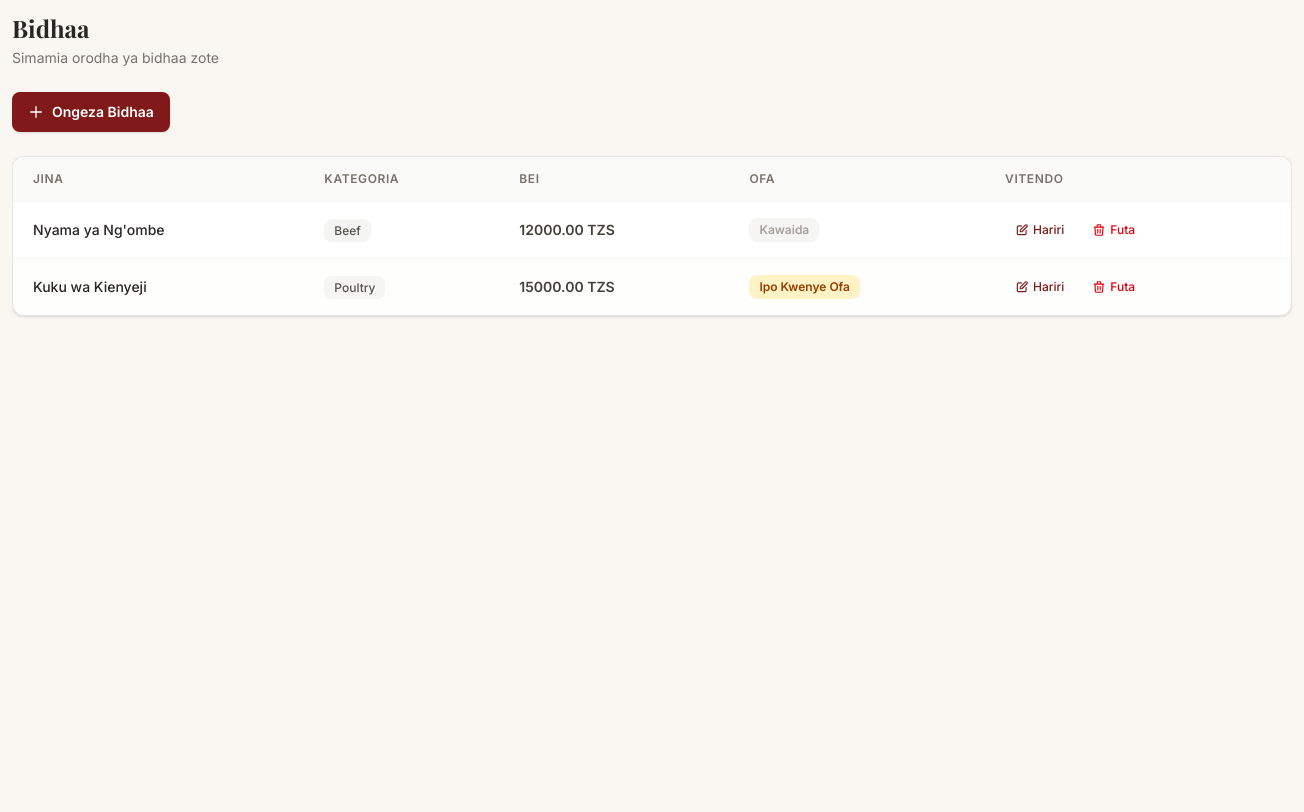
Test case: AdminProducts › shows edit form with pre-filled data
The width and height of the screenshot is (1304, 812).
Step 1. Click the button "Hariri" in the row of "Nyama ya Ng'ombe" → x=1040, y=230, box 1005,216 -> 1074,244
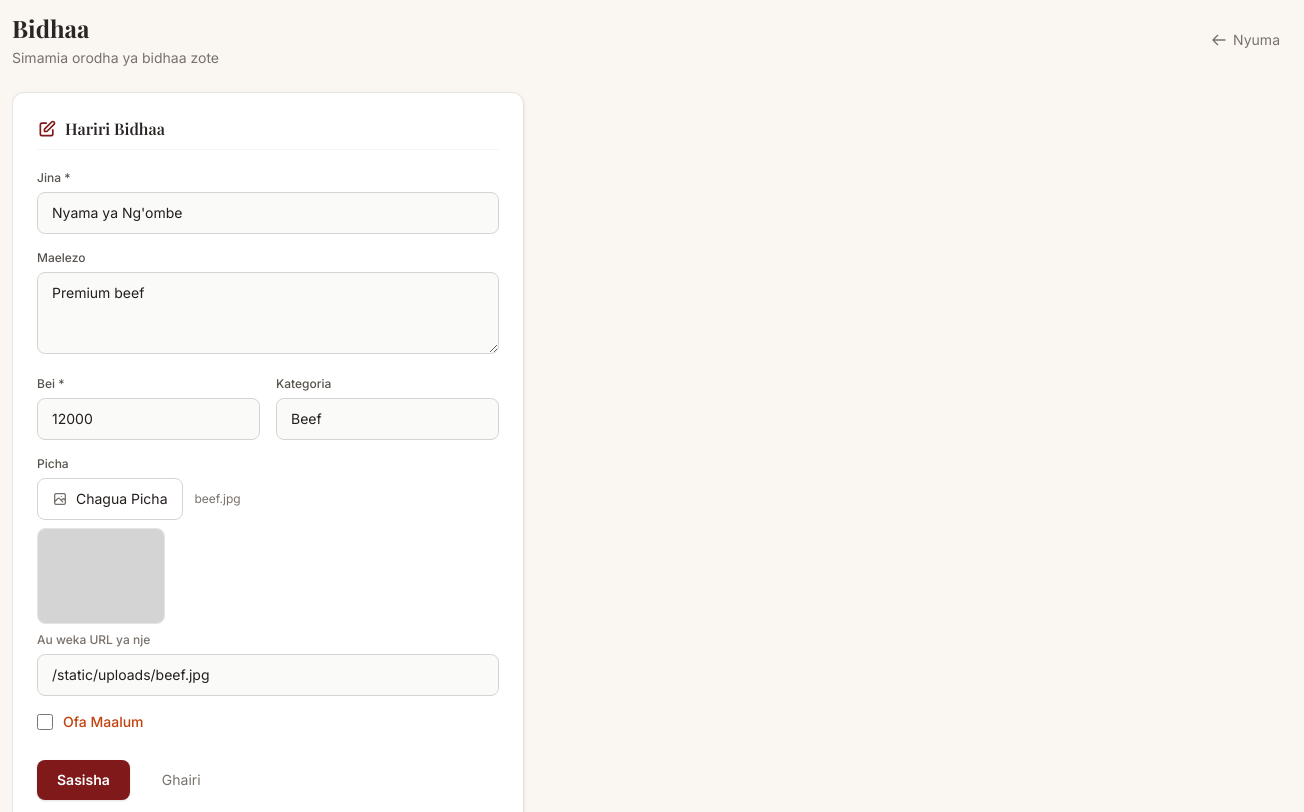
Expected: the field below "Jina *" holds "Nyama ya Ng'ombe", 37,192 -> 499,234
